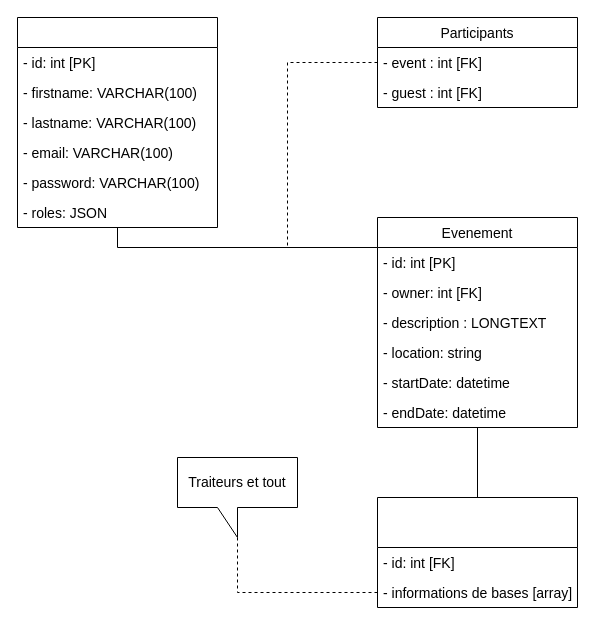
The diagram is 595 pixels wide and 625 high, and some of its shapes have lost their labels. Each missing label, with the box of its shape:
Services Recommendations: (376, 496, 578, 608)
Utilisateur: (16, 16, 218, 228)
